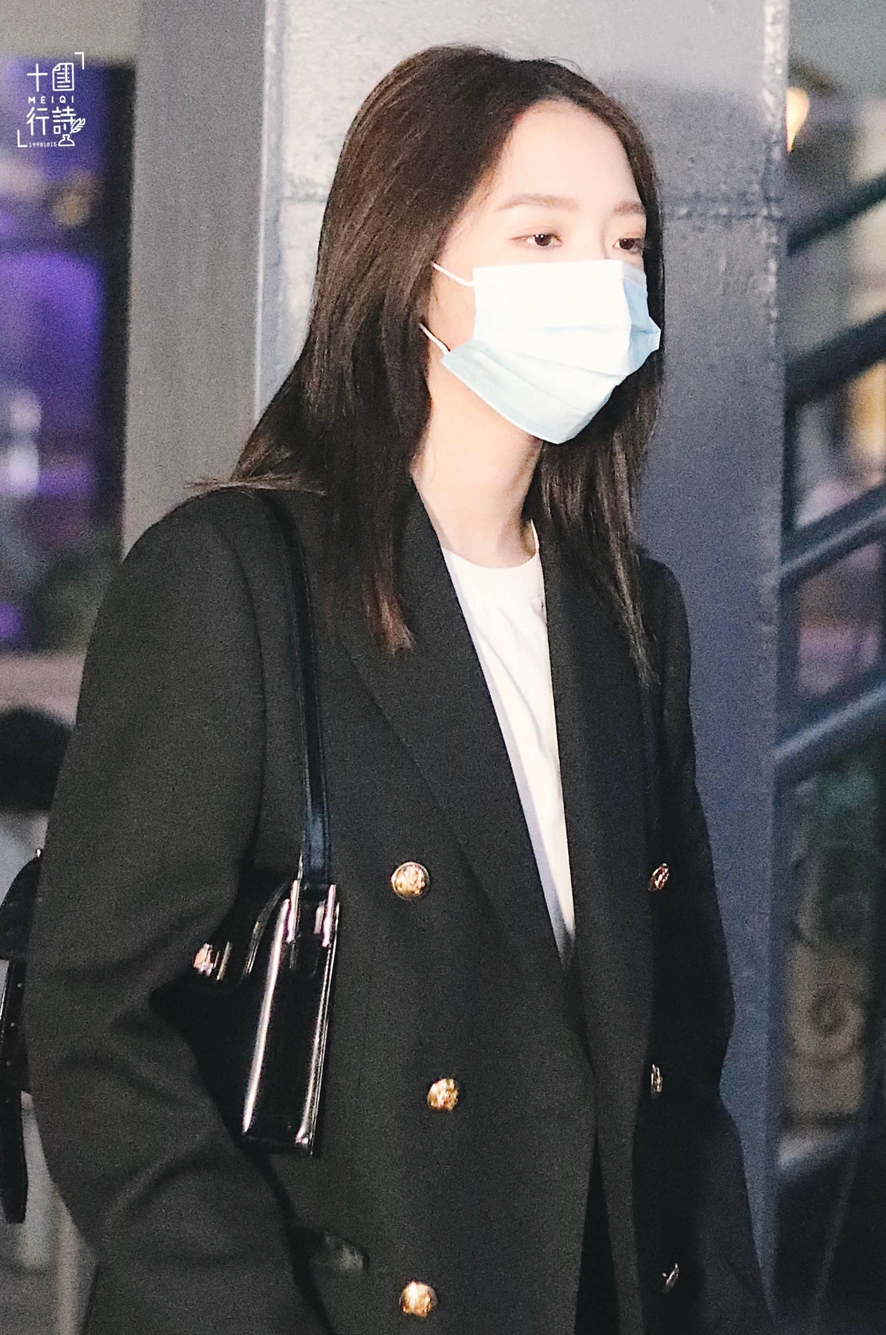OK: (443, 159, 662, 444)
